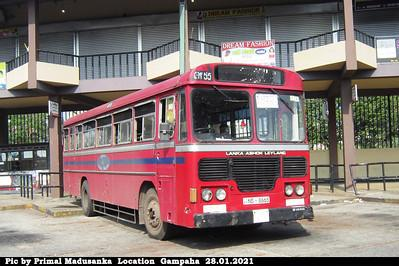bus: (61, 61, 314, 246)
